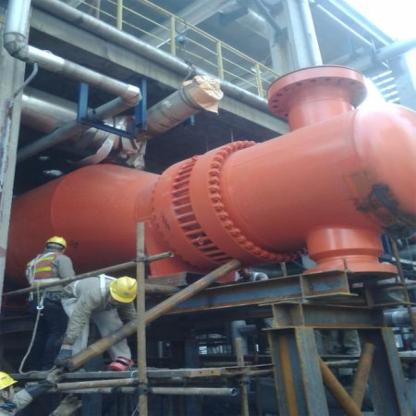helmet: (111, 273, 140, 306), (1, 368, 18, 407), (44, 236, 70, 260)
